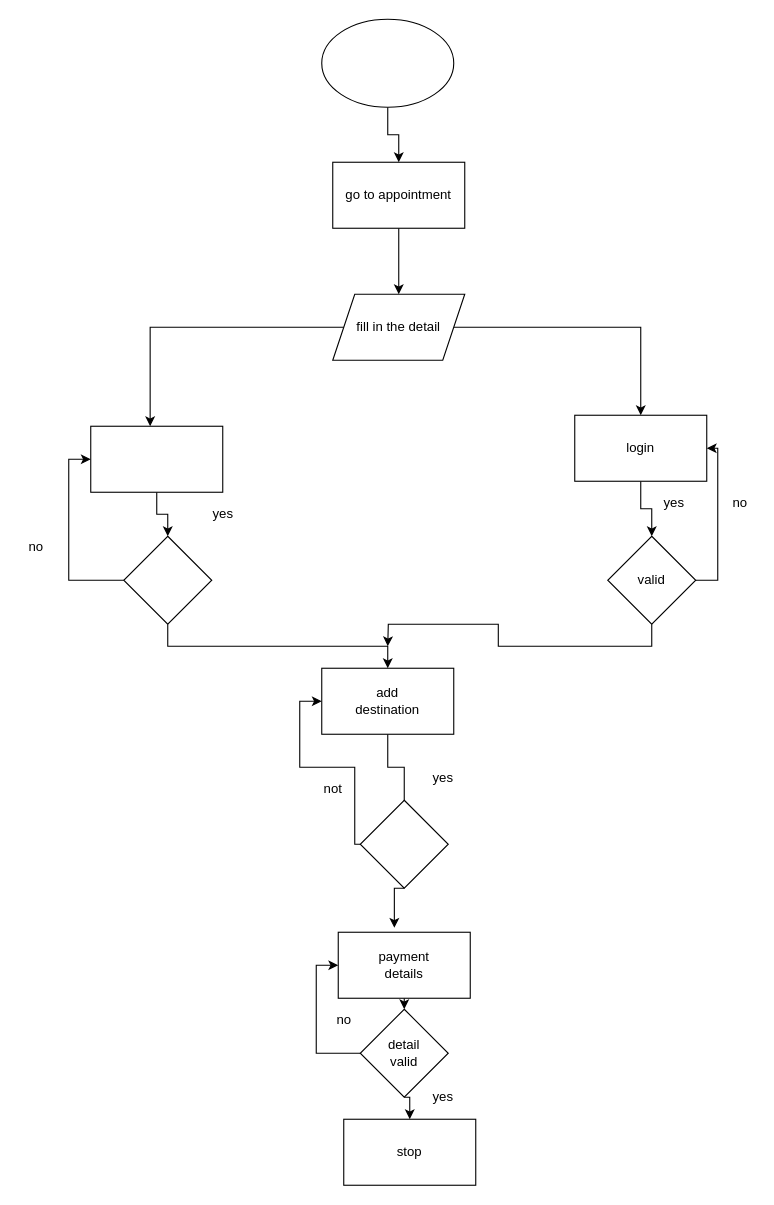
Some shapes in this 774 by 1205 pixel diagram are drawn without their labels. Here are the shapes that lost their labels. From the top down, the centre of each, then its label:
At pixel 387 62: "Start".
At pixel 156 458: "sign in".
At pixel 167 579: "confirm".
At pixel 403 843: "destination availabe".
